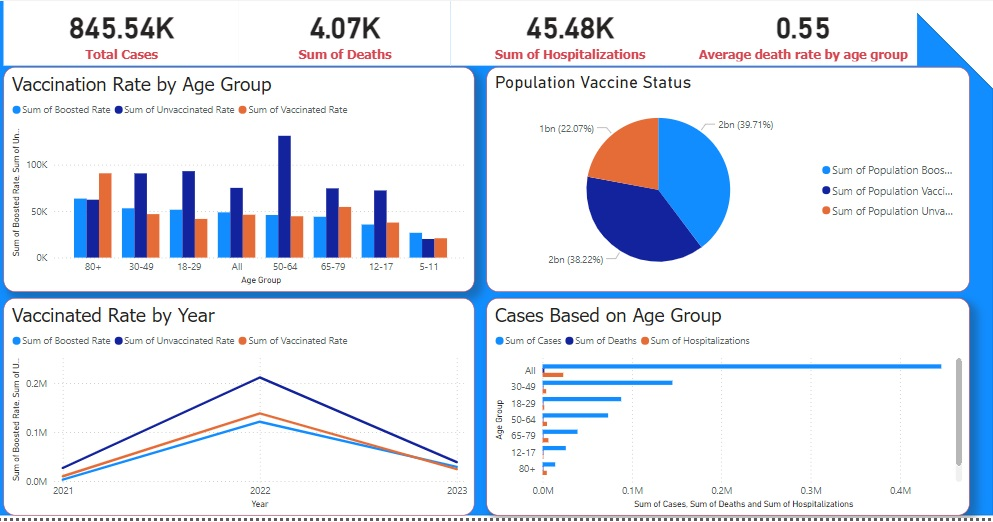

The dashboard page shown, as its layout file describes it:
{"tool":"powerbi","page":{"name":"Page 1","canvas":[1280,720],"ordinal":0},"visuals":[{"type":"shape","box":[0,0,1279.4,716.2],"z":0},{"type":"clusteredColumnChart","title":"Vaccination Rate by Age Group","fields":{"Category":["COVID-19_Outcomes.Age Group"],"Y":["Sum(COVID-19_Outcomes.Boosted Rate)","Sum(COVID-19_Outcomes.Unvaccinated Rate)","Sum(COVID-19_Outcomes.Vaccinated Rate)"]},"box":[32.1,151.2,593.4,283.5],"z":1000},{"type":"lineChart","title":"Vaccinated Rate by Year","fields":{"Y":["Sum(COVID-19_Outcomes.Boosted Rate)","Sum(COVID-19_Outcomes.Unvaccinated Rate)","Sum(COVID-19_Outcomes.Vaccinated Rate)"],"Category":["COVID-19_Outcomes.Week End.Variation.Date Hierarchy.Year","COVID-19_Outcomes.Week End.Variation.Date Hierarchy.Quarter","COVID-19_Outcomes.Week End.Variation.Date Hierarchy.Month","COVID-19_Outcomes.Week End.Variation.Date Hierarchy.Day"]},"box":[32.1,442.2,593.4,274],"z":2000},{"type":"pieChart","title":"Population Vaccine Status","fields":{"Y":["Sum(COVID-19_Outcomes.Population Boosted)","Sum(COVID-19_Outcomes.Population Vaccinated)","Sum(COVID-19_Outcomes.Population Unvaccinated)"]},"box":[640.6,151.2,608.5,283.5],"z":3000},{"type":"clusteredBarChart","title":"Cases Based on Age Group","fields":{"Category":["COVID-19_Outcomes.Age Group"],"Y":["Sum(COVID-19_Outcomes.Cases)","Sum(COVID-19_Outcomes.Deaths)","Sum(COVID-19_Outcomes.Hospitalizations)"]},"box":[640.6,442.2,608.5,274],"z":4000},{"type":"textbox","box":[32.1,0,1062.1,66.1],"z":4001},{"type":"card","fields":{"Values":["COVID-19_Outcomes.Total Cases"]},"box":[32.1,66.1,296.7,83.2],"z":4002},{"type":"card","fields":{"Values":["Sum(COVID-19_Outcomes.Deaths)"]},"box":[328.8,66.1,266.5,83.2],"z":4003},{"type":"card","fields":{"Values":["Sum(COVID-19_Outcomes.Hospitalizations)"]},"box":[595.3,66.1,300.5,83.2],"z":4004},{"type":"card","fields":{"Values":["COVID-19_Outcomes.Average death rate by age group"]},"box":[895.8,66.1,287.2,83.2],"z":4005}]}

Visuals, with their boxes on the page's 1280x720 design canvas (x1, y1, x2, y2). These are canvas units, not pixel positions in the 993x522 screenshot, which may show the page scaled, cropped or inside an application window:
shape: box(0, 0, 1279, 716)
"Vaccination Rate by Age Group" clusteredColumnChart: box(32, 151, 626, 435)
"Vaccinated Rate by Year" lineChart: box(32, 442, 626, 716)
"Population Vaccine Status" pieChart: box(641, 151, 1249, 435)
"Cases Based on Age Group" clusteredBarChart: box(641, 442, 1249, 716)
textbox: box(32, 0, 1094, 66)
card - COVID-19_Outcomes.Total Cases: box(32, 66, 329, 149)
card - Sum(COVID-19_Outcomes.Deaths): box(329, 66, 595, 149)
card - Sum(COVID-19_Outcomes.Hospitalizations): box(595, 66, 896, 149)
card - COVID-19_Outcomes.Average death rate by age group: box(896, 66, 1183, 149)
